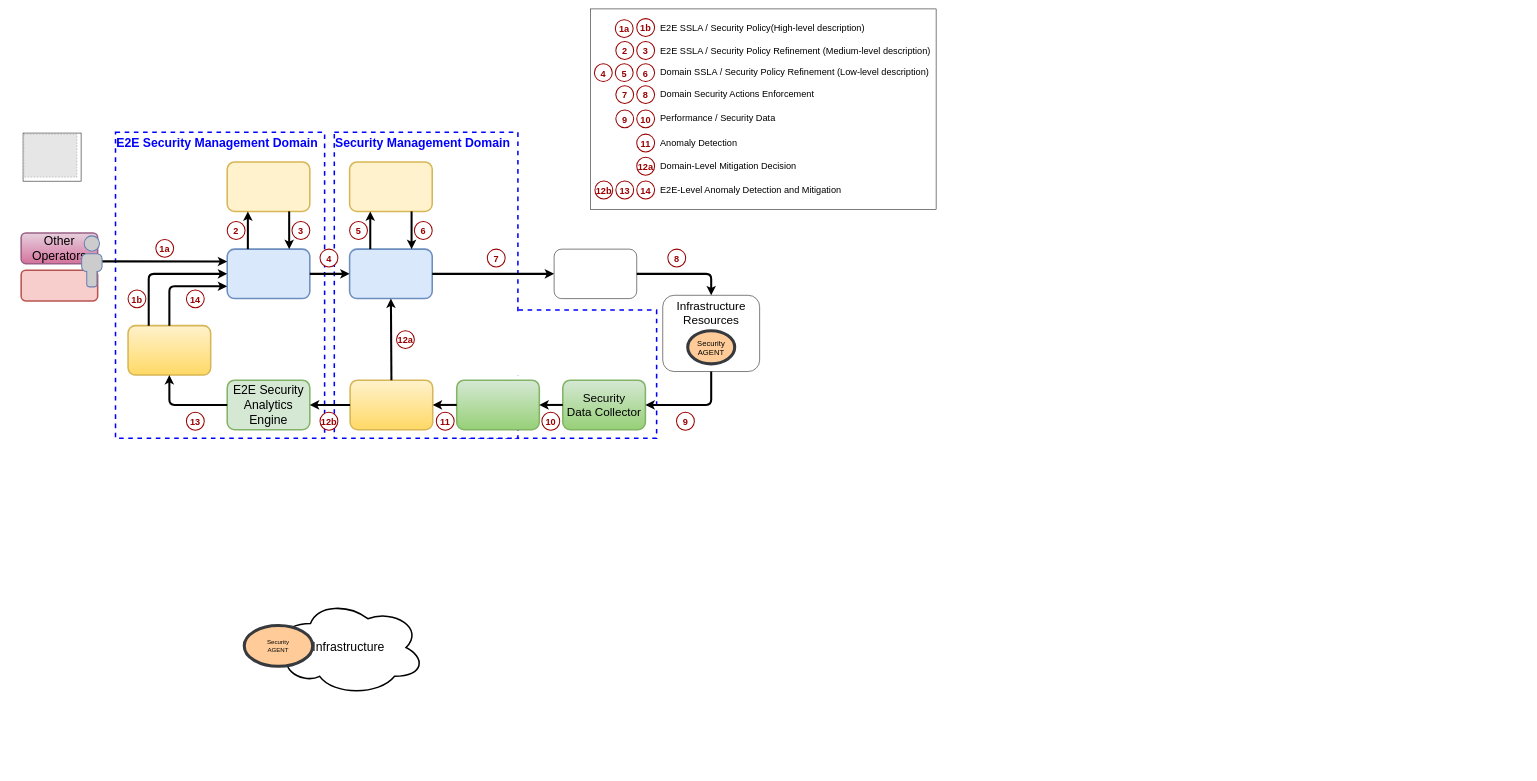
This 1537x781 diagram has some shape labels left out. Grey dashed boxes stand in for pictures. Here are the shapes that lost their labels. From the top down, the centre of each, then its label:
pixel 268 186: E2E Policy & SSLA Management
pixel 391 186: Policy & SSLA Management
pixel 59 285: OTT
pixel 268 273: E2E Security Orchestration
pixel 391 273: Security Orchestration
pixel 595 274: Service Management Functions
pixel 169 350: E2E Decision Engine
pixel 391 404: Decision Engine
pixel 498 404: Security Analytics Engine
